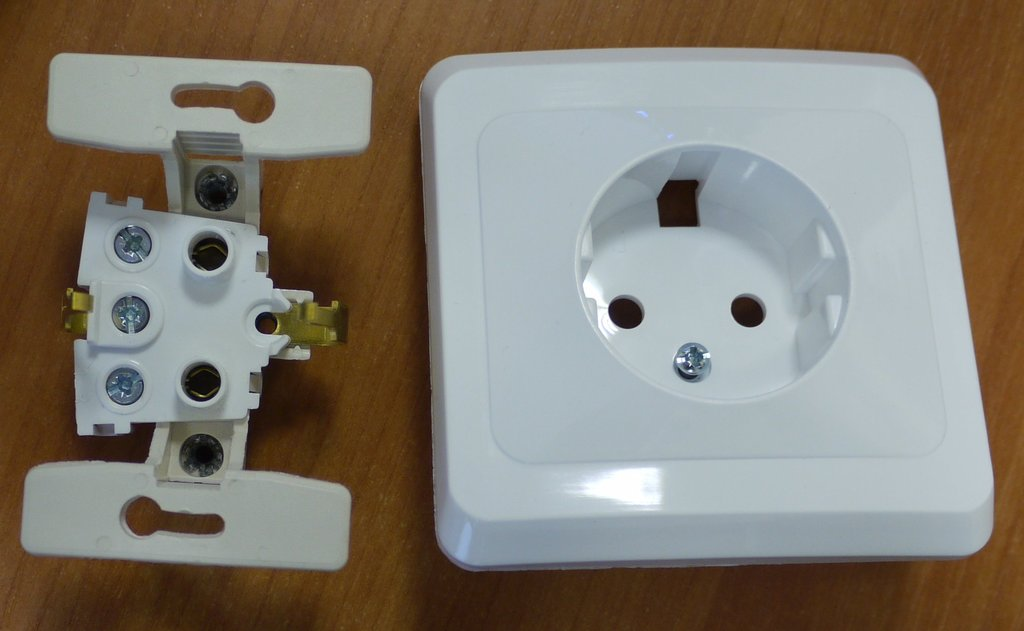raccoon: (574, 137, 853, 404)
